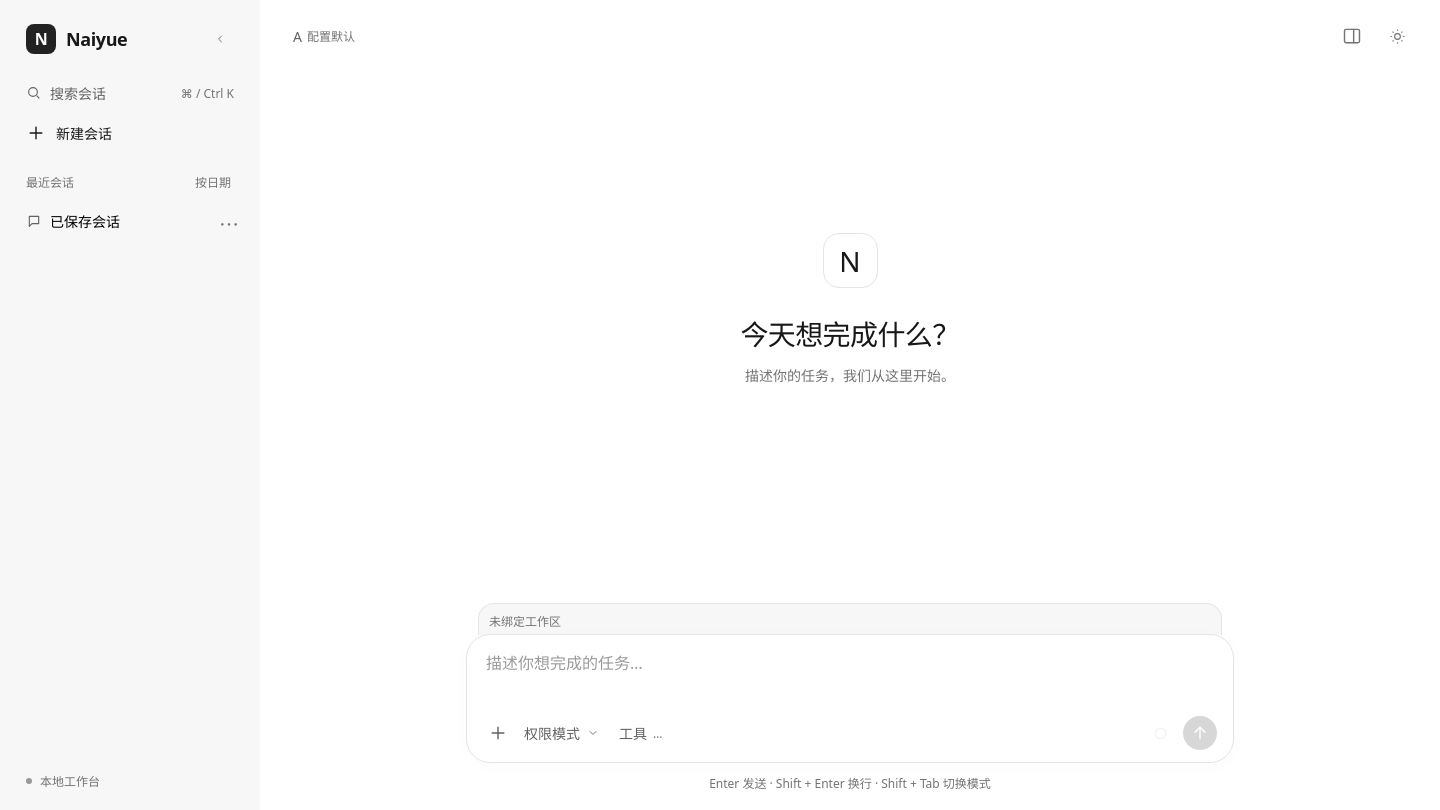
keeps history visible for execution directory reason missing
The width and height of the screenshot is (1440, 810).
Click the button with aria-label "已保存会话 A".
click(130, 221)  # box 14,202 -> 246,240
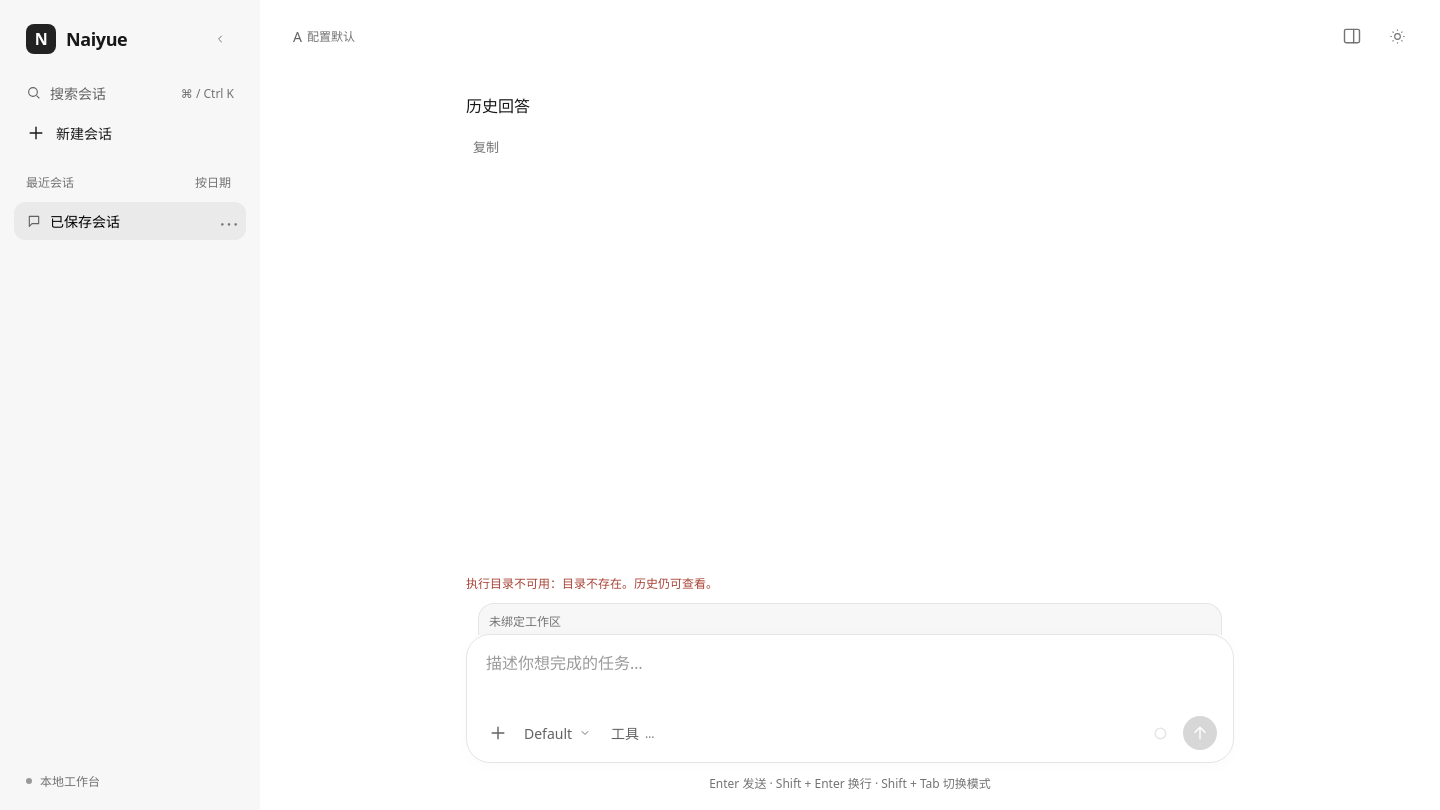
Expected: the button named "发送消息" is disabled, 1183,716 -> 1217,750
Expected: the text "历史回答" is shown, 466,95 -> 530,117
